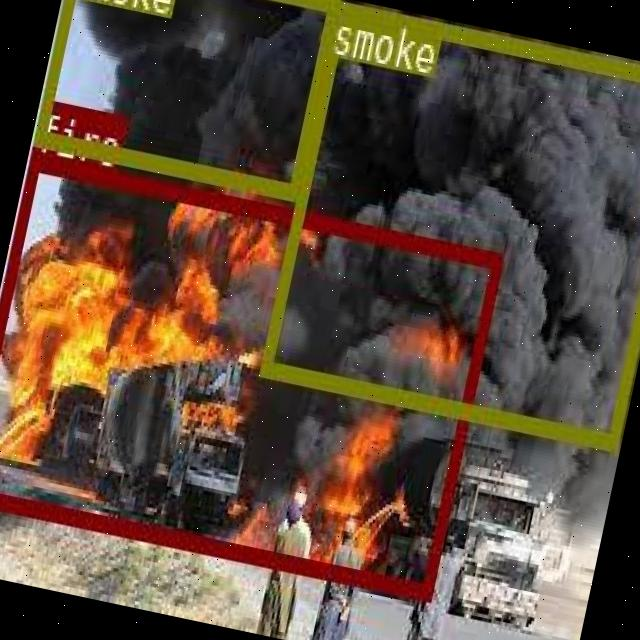fire: (0, 150, 501, 596)
smoke: (257, 0, 640, 447), (31, 0, 337, 198)
